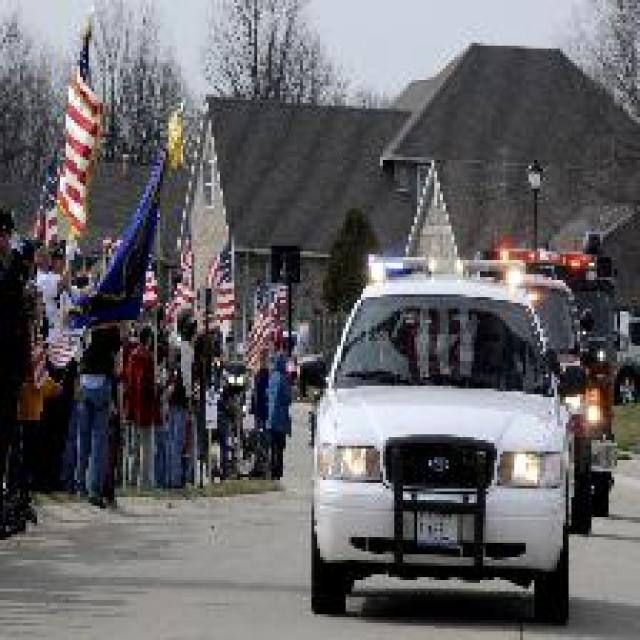emergency: (298, 239, 584, 607)
